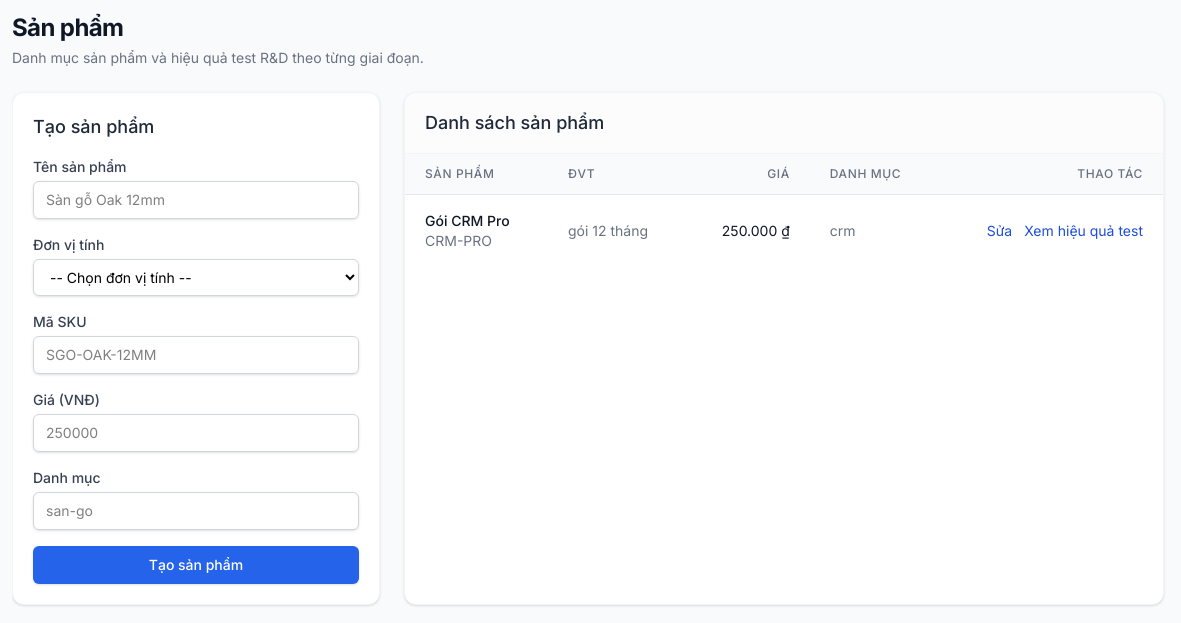
Test: ProductsPage › hiển thị danh sách sản phẩm và tạo mới qua form
The width and height of the screenshot is (1181, 623).
Expected: the text "Gói CRM Pro" is shown, [425, 212, 510, 229]
In the field labelled "Tên sản phẩm": (196, 200) [33, 181, 359, 219], type "Gói ERP Basic"
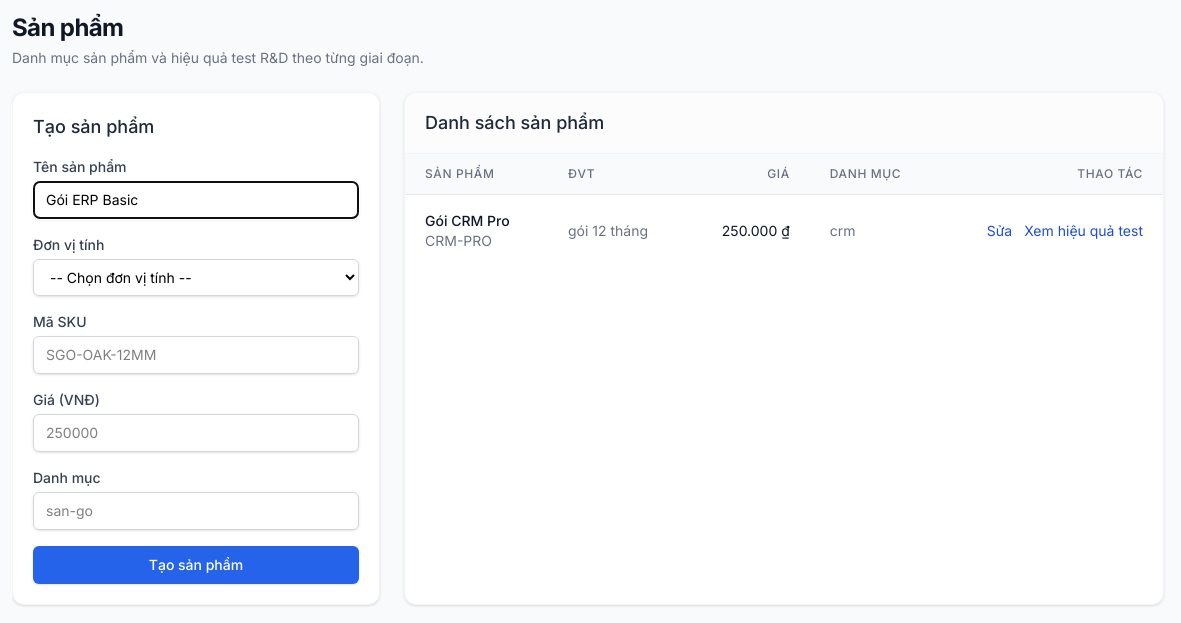
Select "gói 12 tháng" in the dropdown labelled "Đơn vị tính": (196, 278) [33, 259, 359, 296]
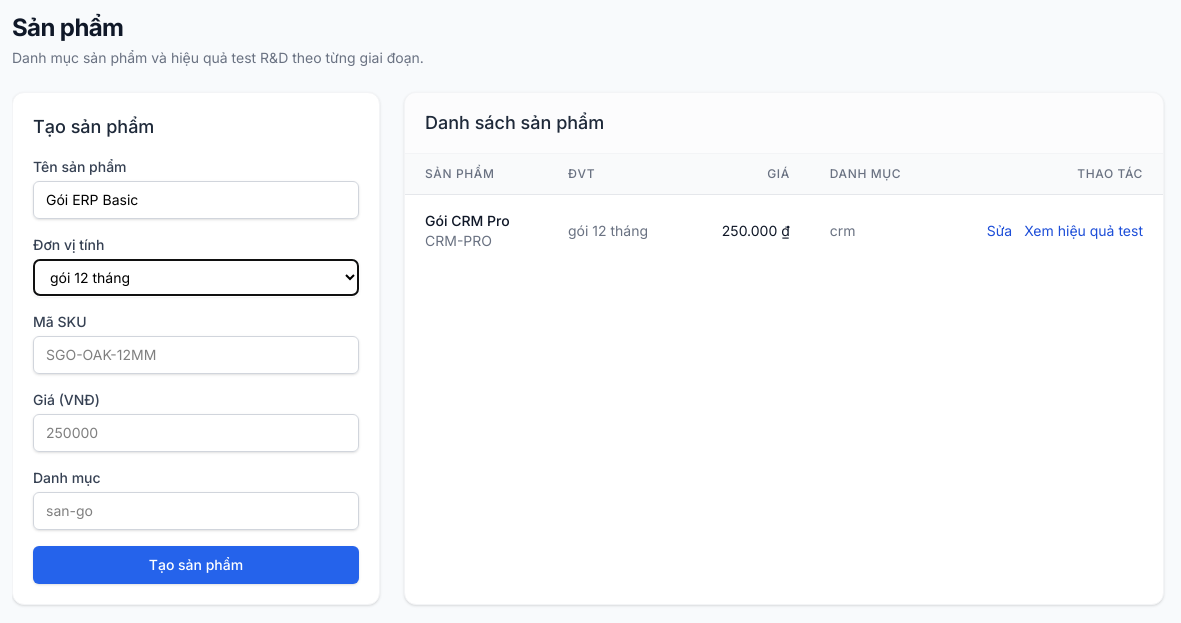
In the field labelled "Mã SKU": (196, 355) [33, 336, 359, 374], type "ERP-BASIC"
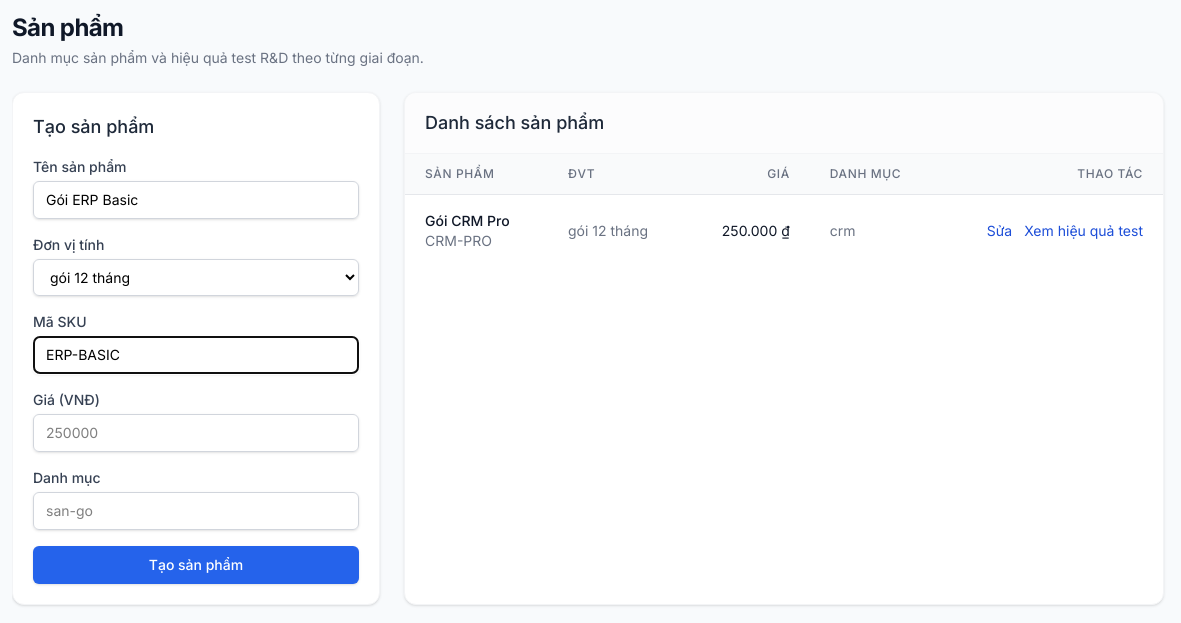
In the number field labelled "Giá (VNĐ)": (196, 433) [33, 414, 359, 452], type "180000"
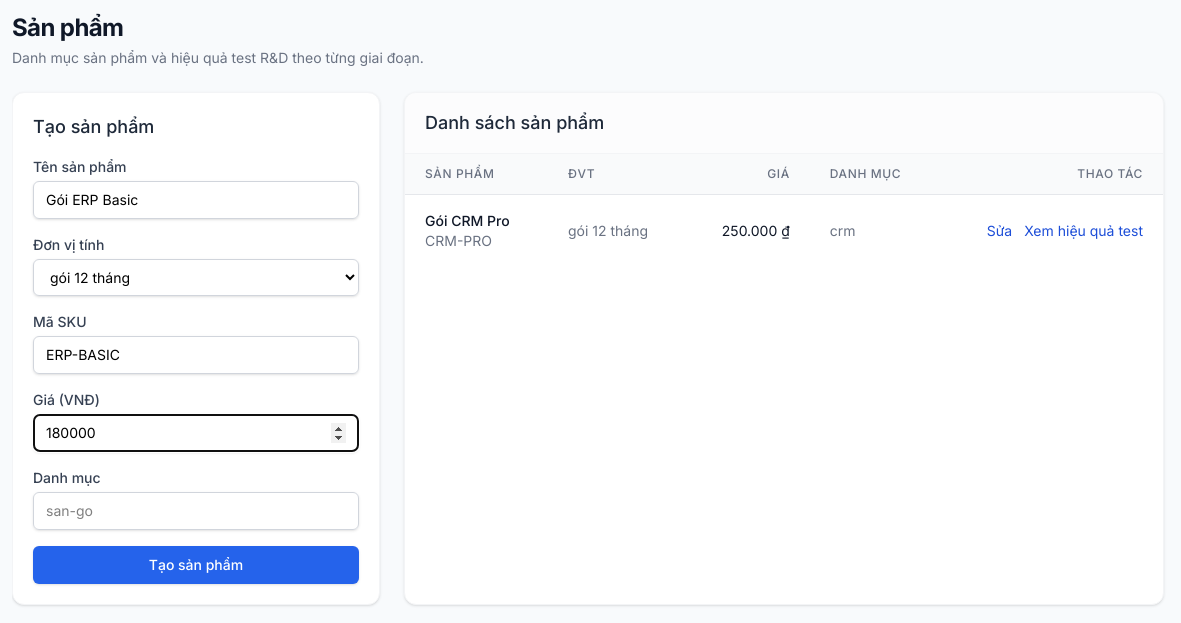
Click the button "Tạo sản phẩm": (196, 565) [33, 546, 359, 584]
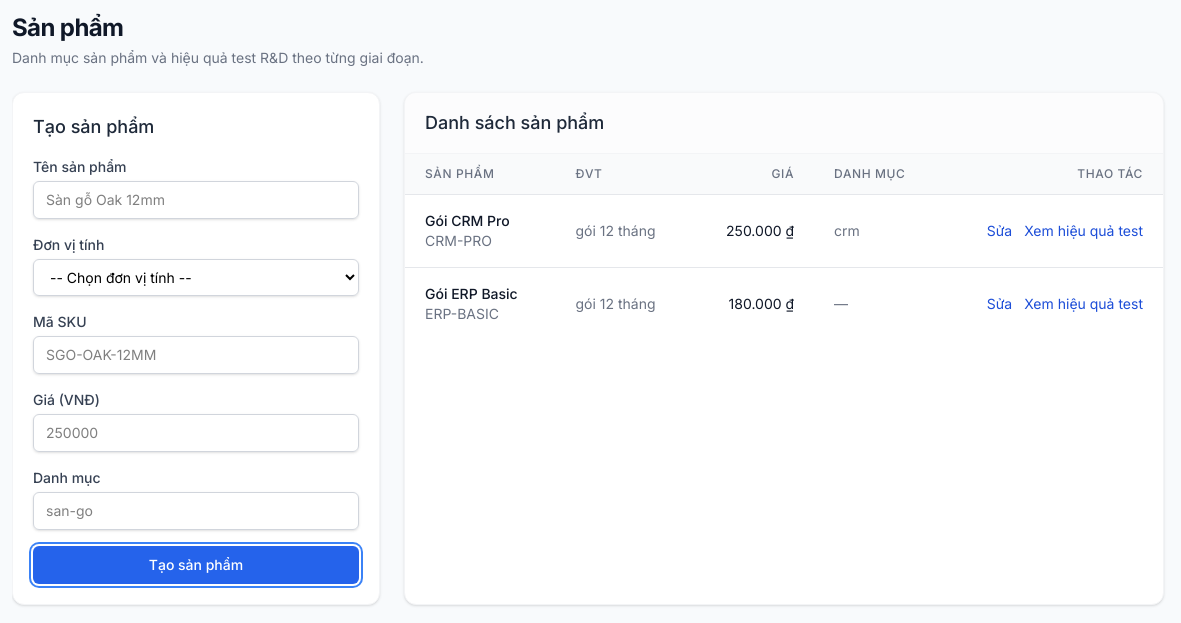
Now the text "Gói ERP Basic" is shown, box [425, 285, 518, 302]
